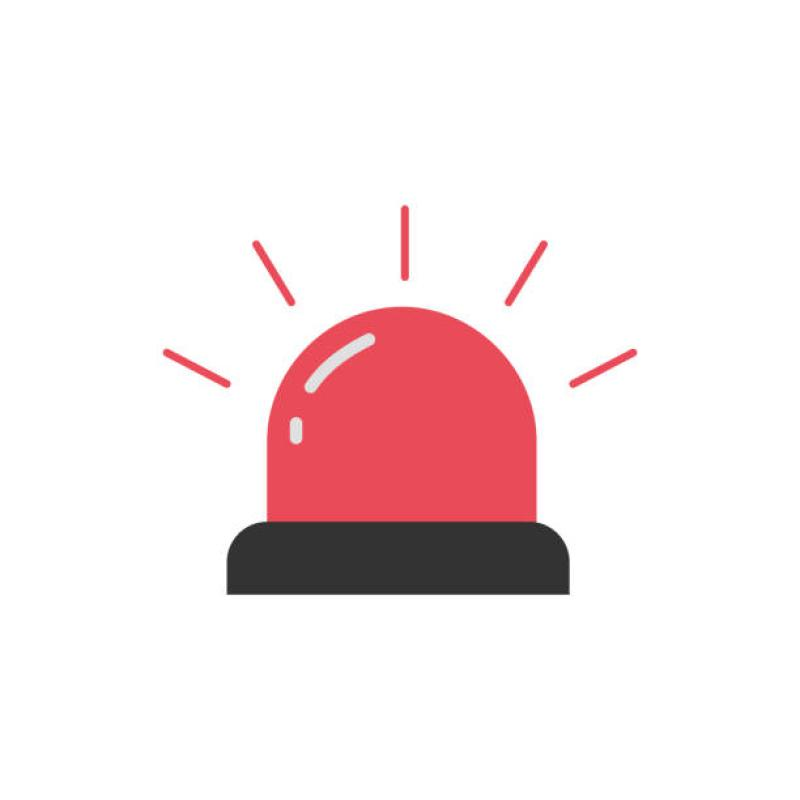AmbulanceSiren: (127, 258, 668, 669)
